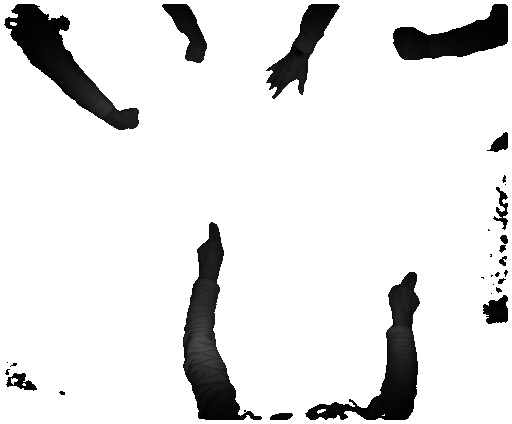fist: (392, 24, 427, 63), (116, 108, 143, 135), (184, 41, 207, 63)
hand: (264, 52, 310, 103), (384, 272, 423, 323), (192, 219, 223, 279)
